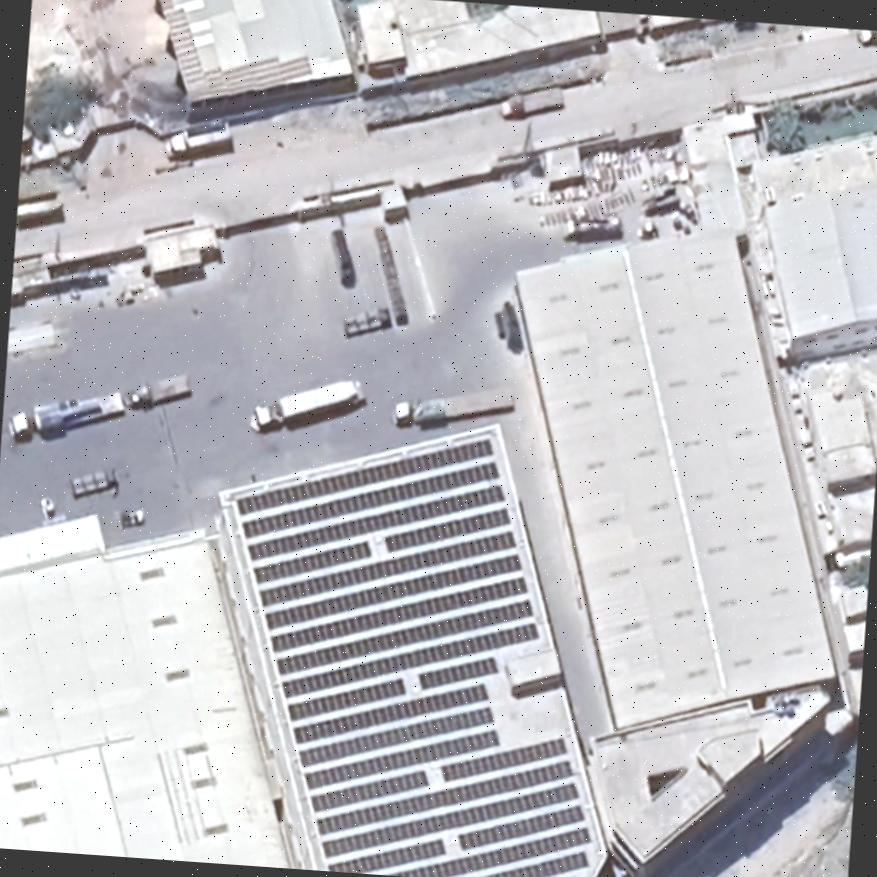Solarpanel: (221, 426, 610, 877)
